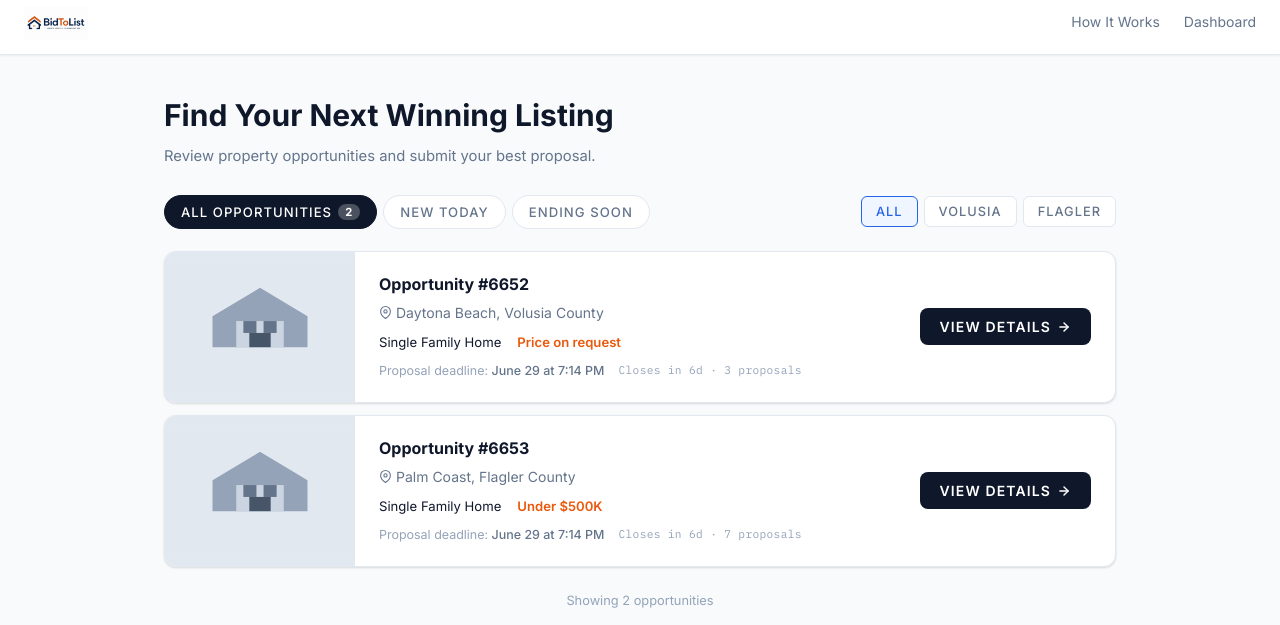
BrowseListingsPage — county filter › shows all listings when All filter selected
Expected: the text "Daytona Beach, Volusia County" is shown, [396,302,604,324]
Click the button "Volusia" at (970, 212), box [924,196,1017,227]
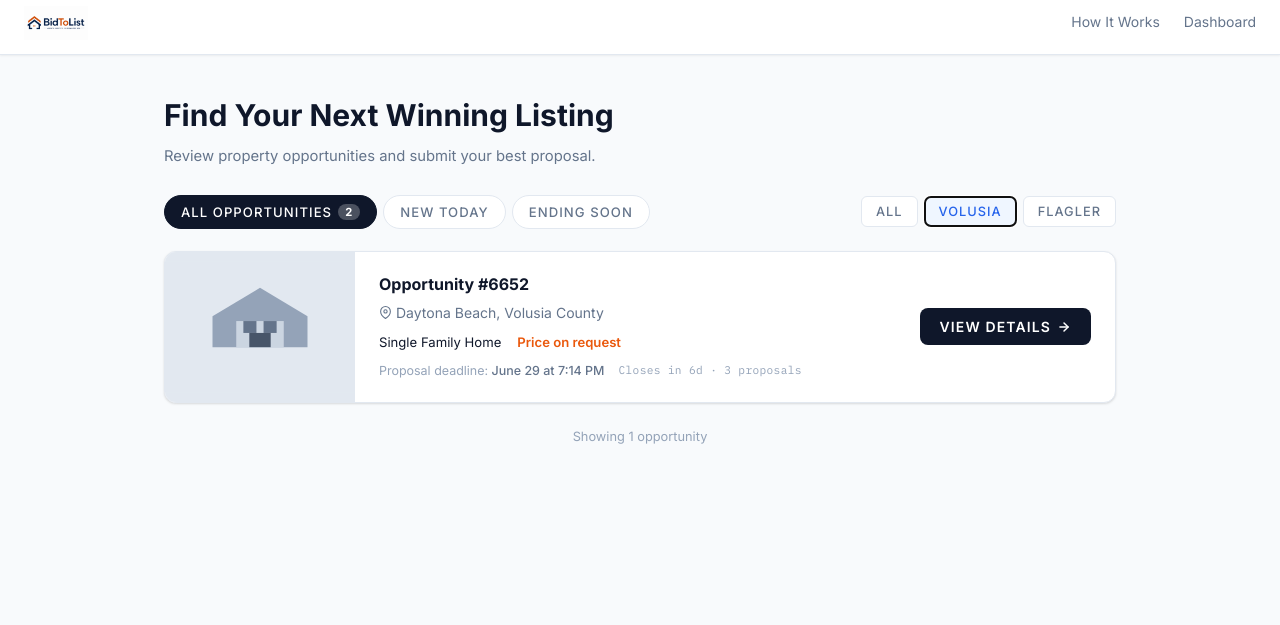
Click the button "All" at (889, 212), box [861,196,918,227]
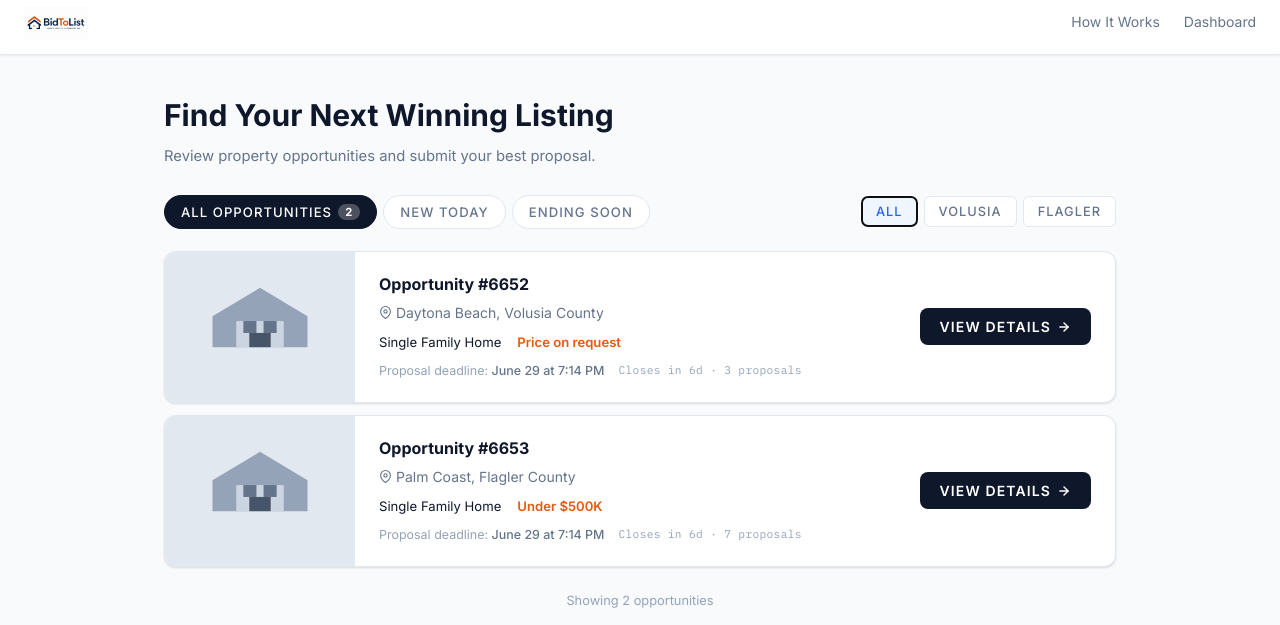
Expected: the text "Daytona Beach, Volusia County" is shown, [396,302,604,324]
Result: the text "Palm Coast, Flagler County" is shown at [396,466,576,488]
